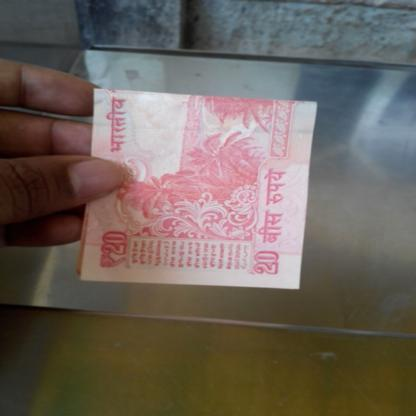Old20Back: (90, 89, 302, 283)
